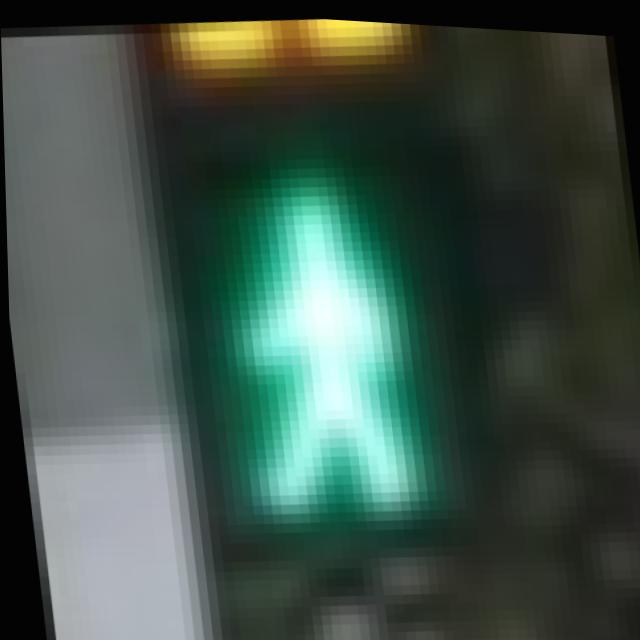green_light: (171, 115, 516, 590)
